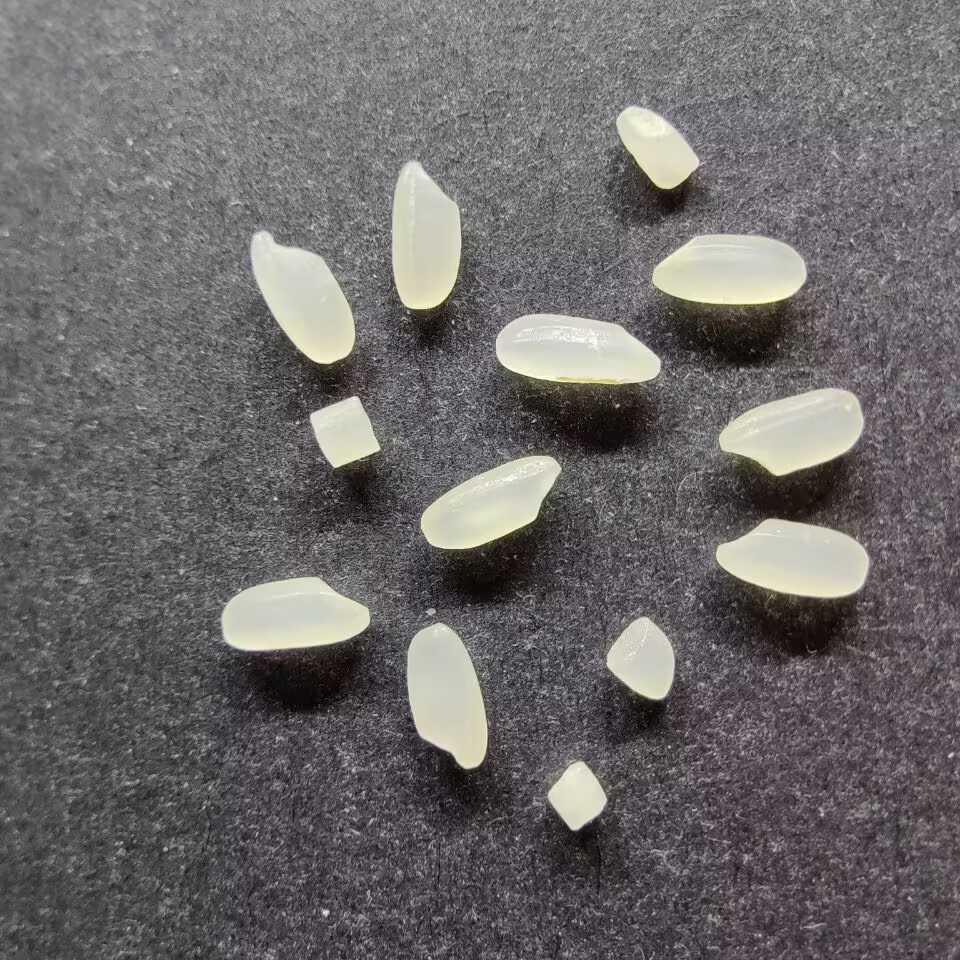broken: (615, 106, 700, 190), (605, 616, 675, 701), (309, 395, 381, 468), (545, 760, 607, 831)
rice: (249, 229, 356, 365), (420, 454, 561, 549), (717, 389, 863, 476), (715, 518, 869, 598), (405, 622, 488, 770), (494, 312, 661, 385), (220, 575, 370, 651), (651, 233, 805, 304), (390, 161, 461, 309)
